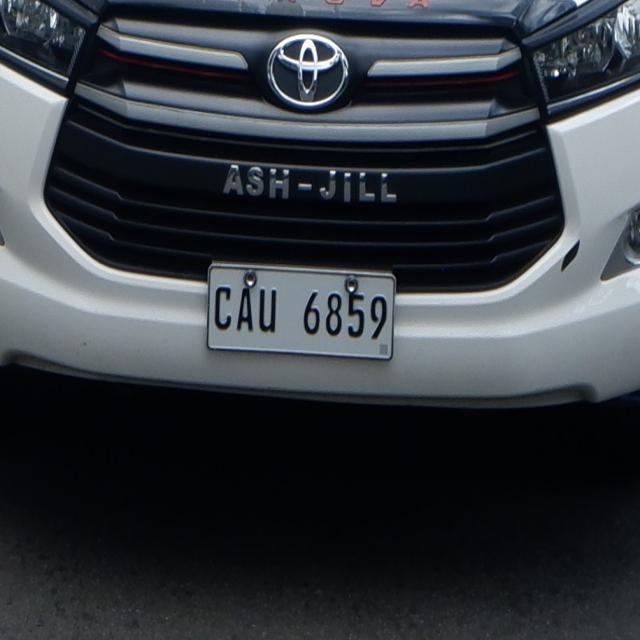LicensePlate: (197, 254, 405, 372)
